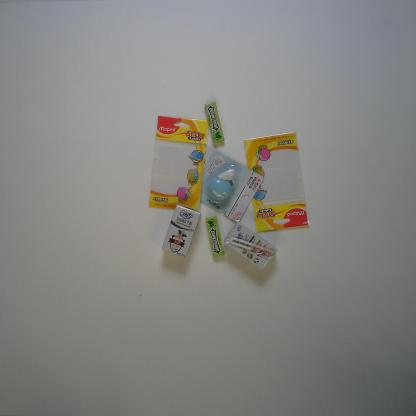Gum: (206, 213, 226, 261), (205, 100, 225, 144)
Milk: (223, 220, 278, 273), (160, 201, 202, 258)
Stationery: (241, 130, 311, 235), (148, 114, 210, 214), (199, 145, 265, 225)
